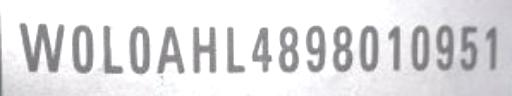letter: (16, 20, 66, 70), (187, 22, 219, 76), (154, 23, 186, 75), (67, 22, 99, 72), (299, 21, 329, 73), (218, 22, 246, 74), (274, 22, 302, 74), (326, 23, 356, 71), (248, 21, 274, 73), (100, 22, 126, 74), (128, 24, 152, 76), (406, 24, 432, 71), (455, 22, 479, 72), (354, 23, 378, 71), (381, 23, 405, 71), (431, 23, 455, 71), (479, 23, 503, 71)
